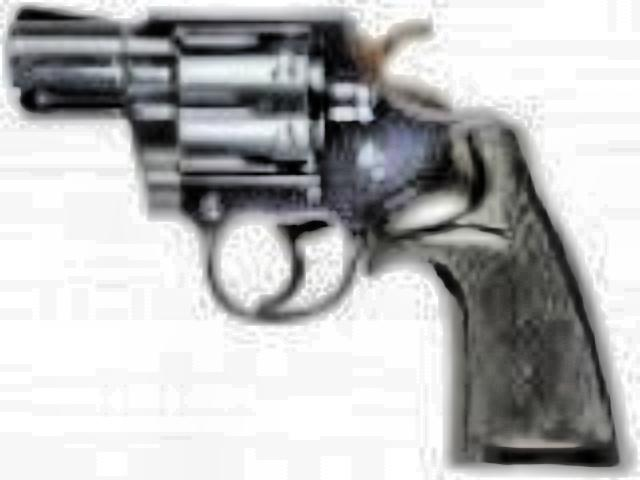pistol: (12, 8, 620, 456)
